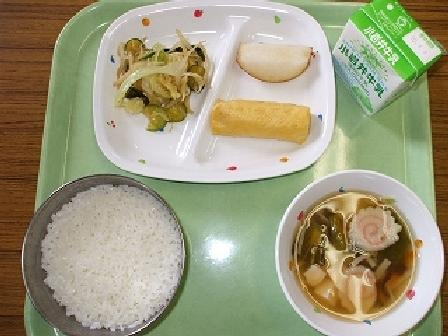Milk: (329, 1, 447, 115)
Rice: (22, 171, 195, 332)
Salad: (116, 24, 210, 130)
Soups: (273, 174, 445, 330)
crepe w filling: (203, 87, 319, 152)
pear: (228, 28, 329, 91)
